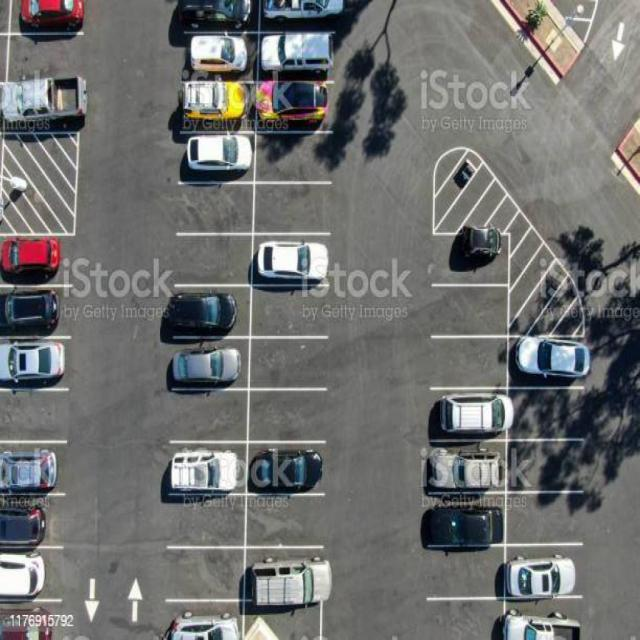car: (428, 439, 504, 498), (0, 76, 84, 129), (168, 279, 250, 332), (504, 546, 588, 596), (241, 550, 321, 602), (0, 338, 72, 392), (432, 391, 508, 442), (0, 283, 73, 336), (260, 31, 338, 80), (170, 340, 254, 384), (252, 236, 332, 282), (508, 338, 589, 383), (248, 442, 327, 488), (428, 497, 503, 545), (168, 442, 244, 488), (507, 597, 589, 639), (0, 446, 68, 496), (0, 500, 68, 550), (181, 82, 259, 125), (434, 236, 504, 282), (181, 134, 254, 178), (261, 82, 334, 126), (181, 34, 257, 76), (0, 239, 74, 280), (0, 552, 63, 598), (164, 606, 242, 639), (6, 0, 82, 32), (180, 0, 258, 31), (259, 0, 341, 29), (244, 608, 322, 638), (0, 606, 64, 639)
free: (503, 492, 589, 544), (505, 440, 586, 494), (244, 497, 324, 549), (248, 284, 330, 334), (248, 388, 327, 439), (247, 336, 328, 384), (508, 388, 584, 439), (424, 547, 504, 595), (0, 392, 69, 447), (171, 236, 251, 282), (433, 340, 509, 388), (178, 182, 254, 230), (168, 494, 242, 542), (433, 290, 509, 336), (255, 186, 331, 232), (160, 553, 240, 596), (168, 390, 246, 432), (423, 600, 508, 638), (256, 134, 332, 176), (8, 31, 82, 72)
